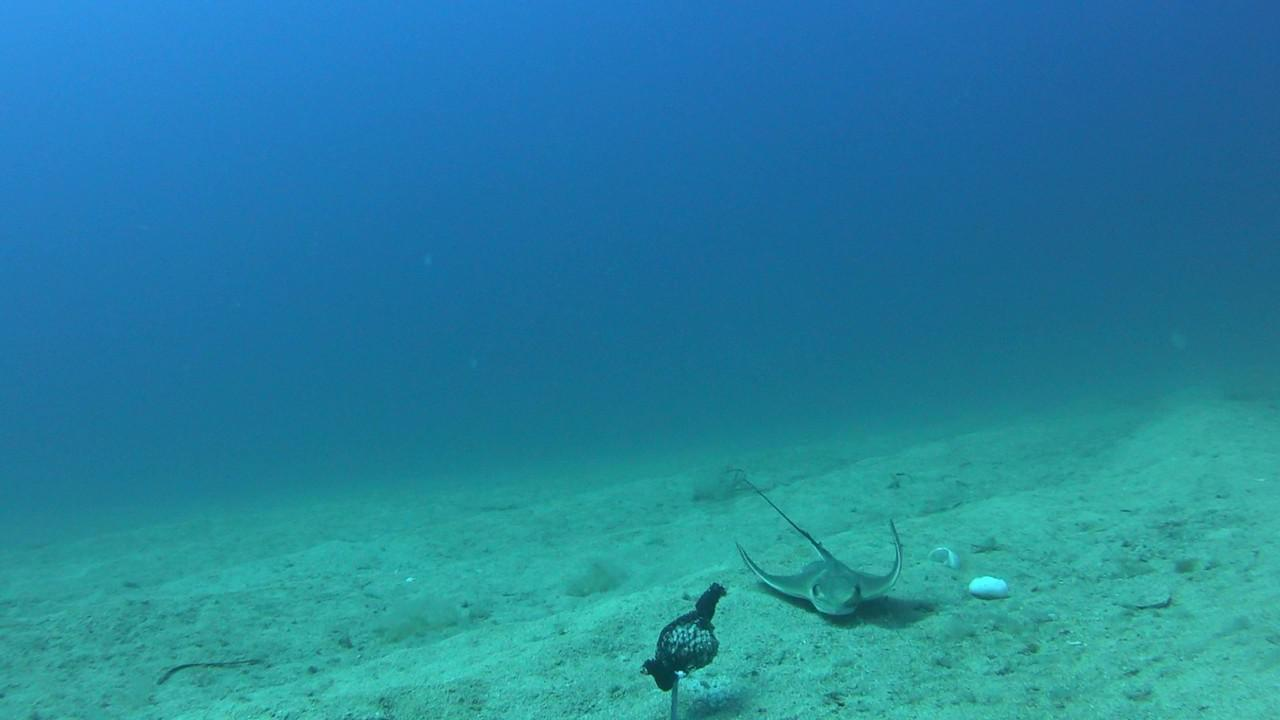myliobatis: (716, 458, 941, 636)
